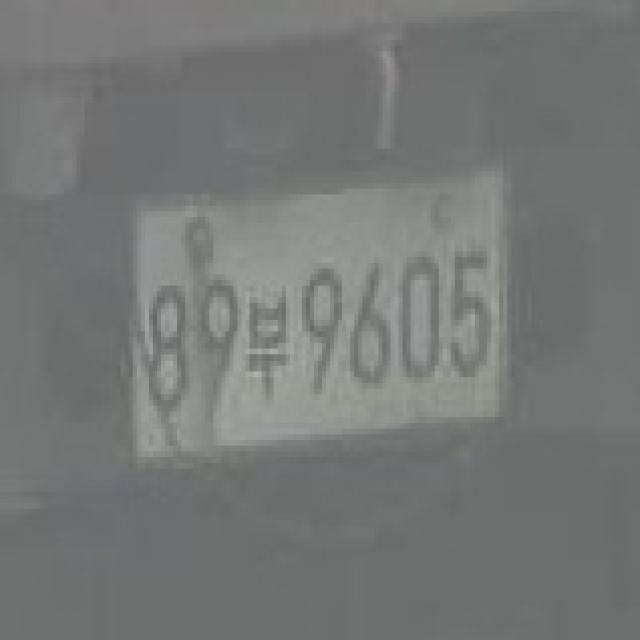plat: (125, 164, 511, 469)
